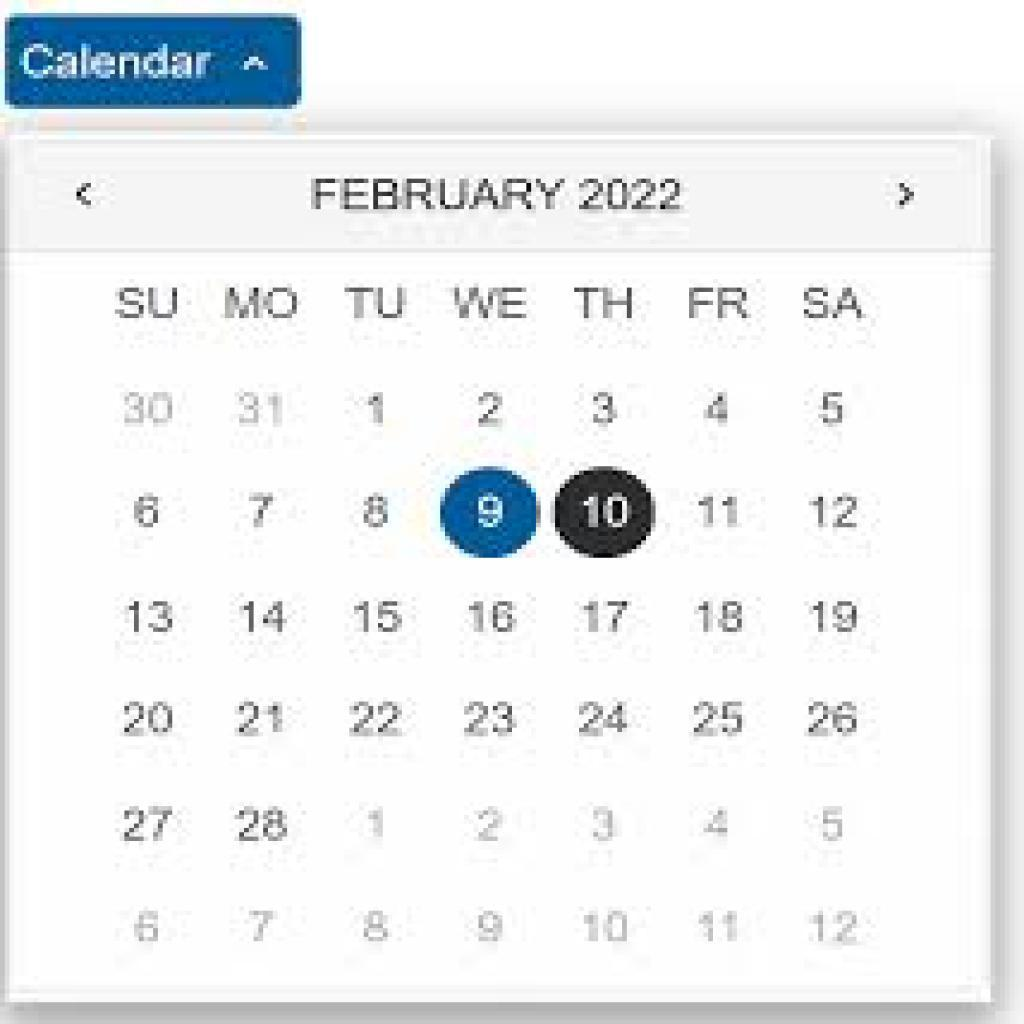dropdown: (7, 14, 302, 109)
icon: (887, 172, 920, 218), (70, 174, 98, 217)
